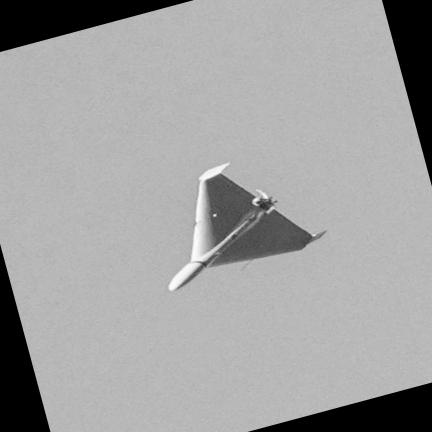Shahed: (169, 163, 325, 290)
